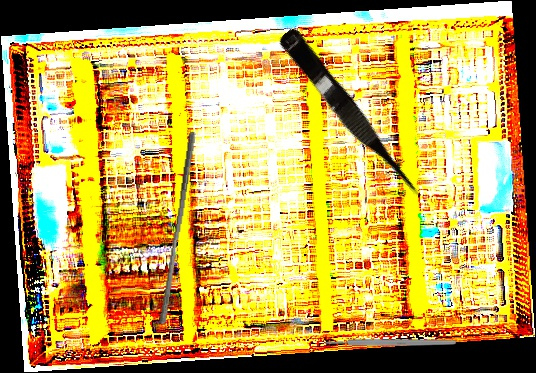Micro Scissor: (273, 26, 428, 207)
Pusher: (158, 130, 196, 326)
Scalpel Handle: (325, 339, 456, 346)
